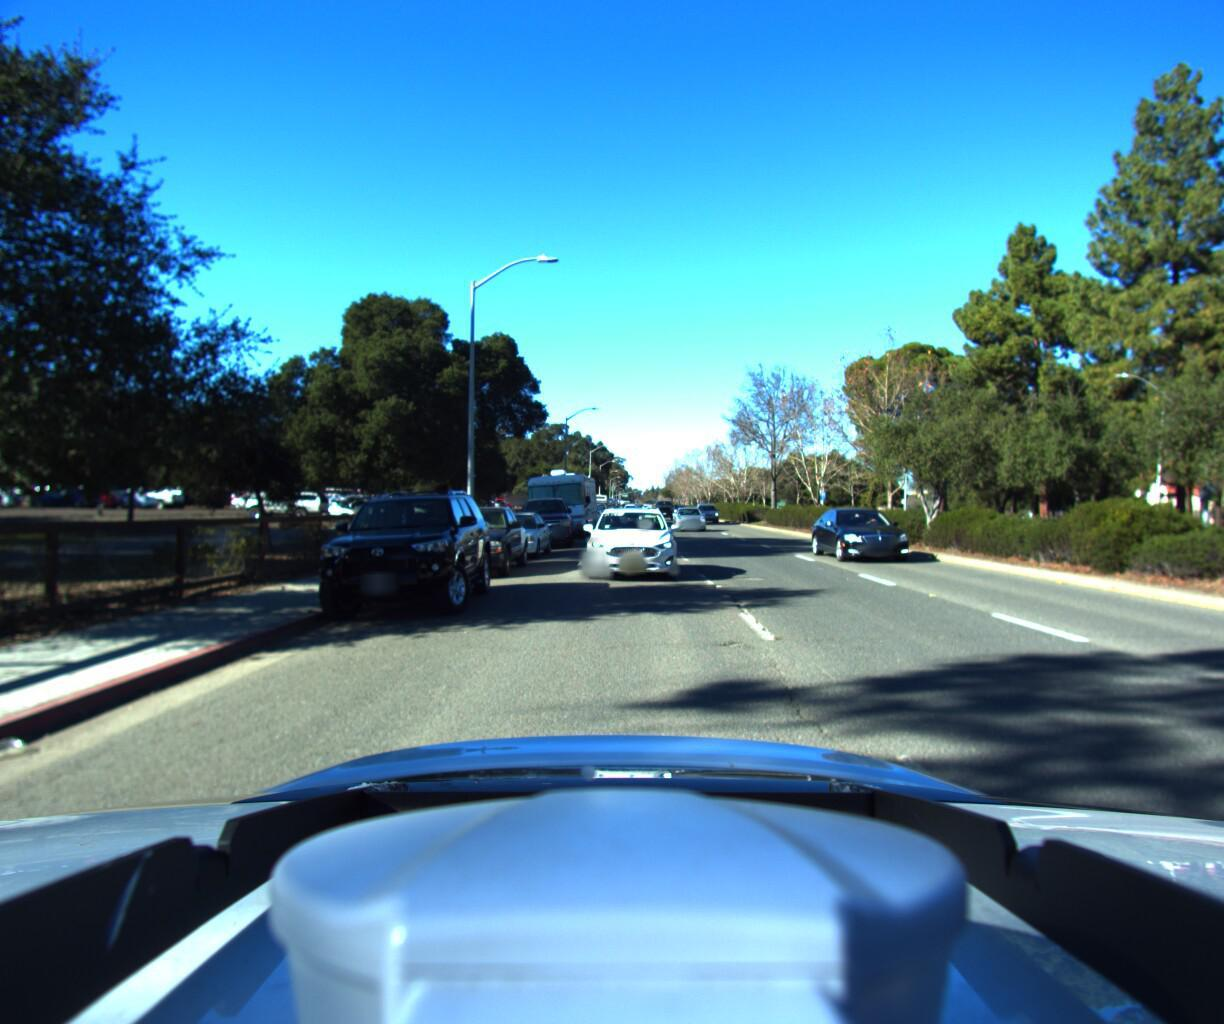car: (295, 484, 493, 631), (416, 505, 530, 583), (815, 503, 937, 569), (586, 506, 678, 589), (470, 513, 550, 564), (509, 495, 569, 551), (363, 496, 435, 523), (672, 502, 708, 534), (1208, 514, 1224, 563), (698, 504, 725, 524), (656, 506, 676, 522)
other_vehicle: (516, 467, 599, 540)
